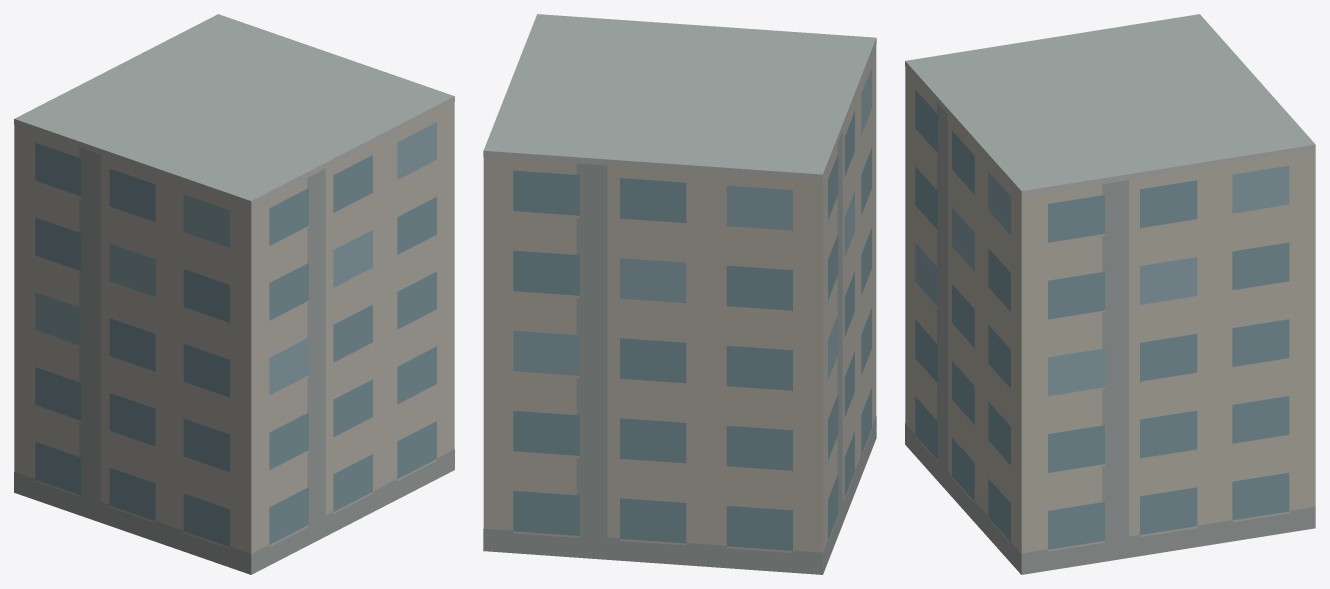
Rendered from survey-upis-33042871.glb.
3 views of the same model, side by side, from view 1: azimuth 30°, elevation 25°; view 2: azimuth 150°, elevation 25°; view 3: azimuth 270°, elevation 25° (orthographic). The views are drawn at different scales.
Visible parts, largest first — view 1: survey-upis-33042871.tmp; view 2: survey-upis-33042871.tmp; view 3: survey-upis-33042871.tmp.
Part boxes in pixels (x1,y1,x2,y2): survey-upis-33042871.tmp: (14,14,454,574); survey-upis-33042871.tmp: (483,14,876,574); survey-upis-33042871.tmp: (905,14,1315,574).
Size of the model in its own units: 15.55 by 15.7 by 15.23.
